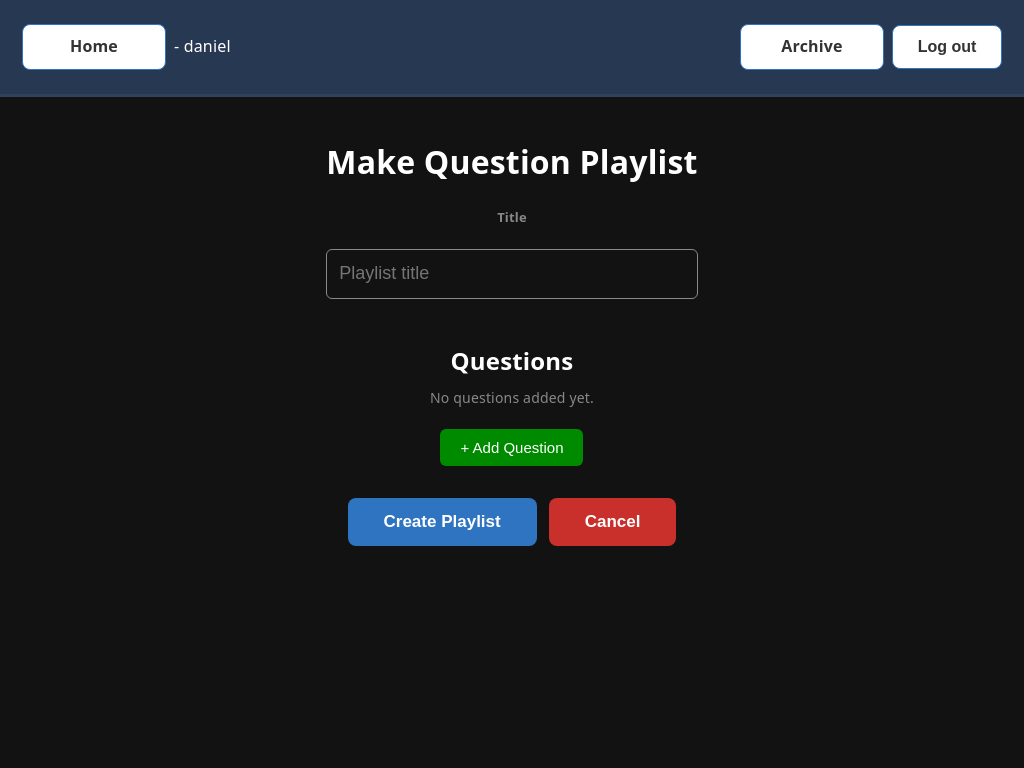
Test case: MakePlaylistScreen errors (spec 016) › marks and focuses the title when it is missing
The image size is (1024, 768).
Click the button "Create Playlist" at (442, 522), box top-left (348, 498), bottom-right (537, 546)
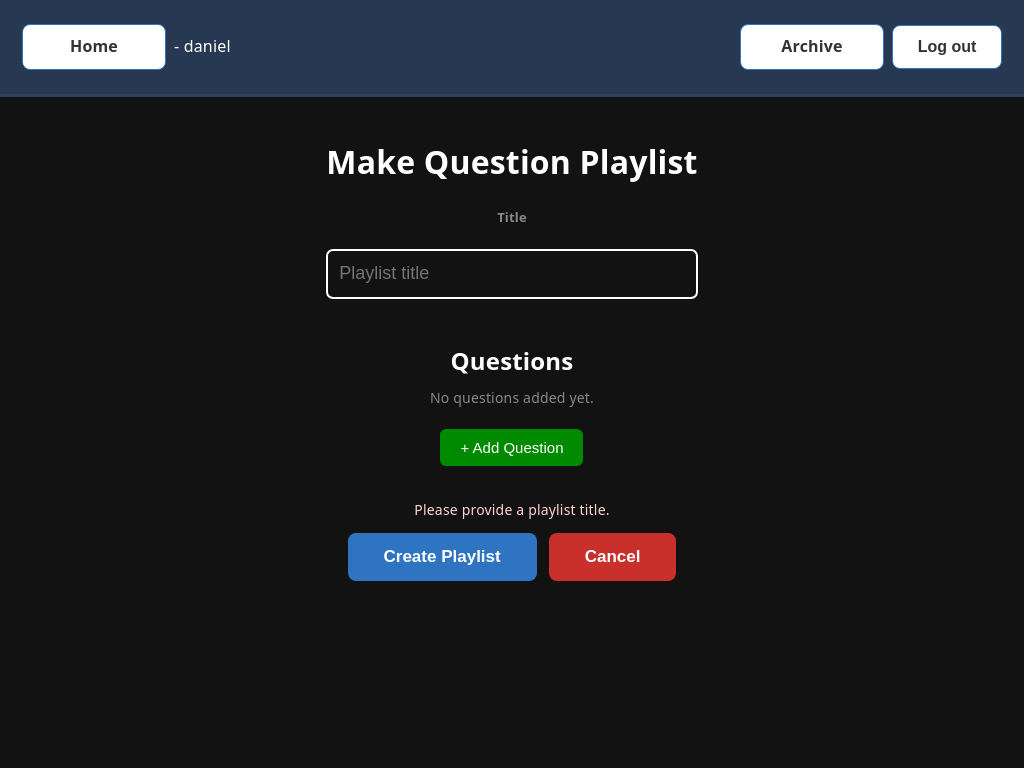
Now the message reads "Please provide a playlist title.", box top-left (414, 500), bottom-right (610, 519)
